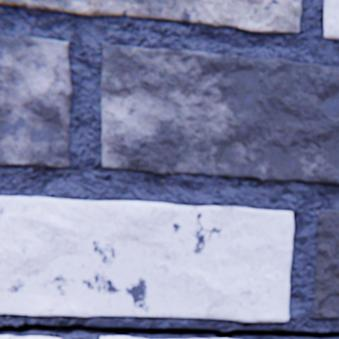brick: (0, 197, 293, 322), (102, 46, 338, 184), (0, 0, 301, 34), (0, 36, 73, 168), (311, 210, 338, 318), (324, 0, 338, 40), (0, 335, 68, 338), (101, 336, 139, 338)
crack: (0, 324, 338, 338)
